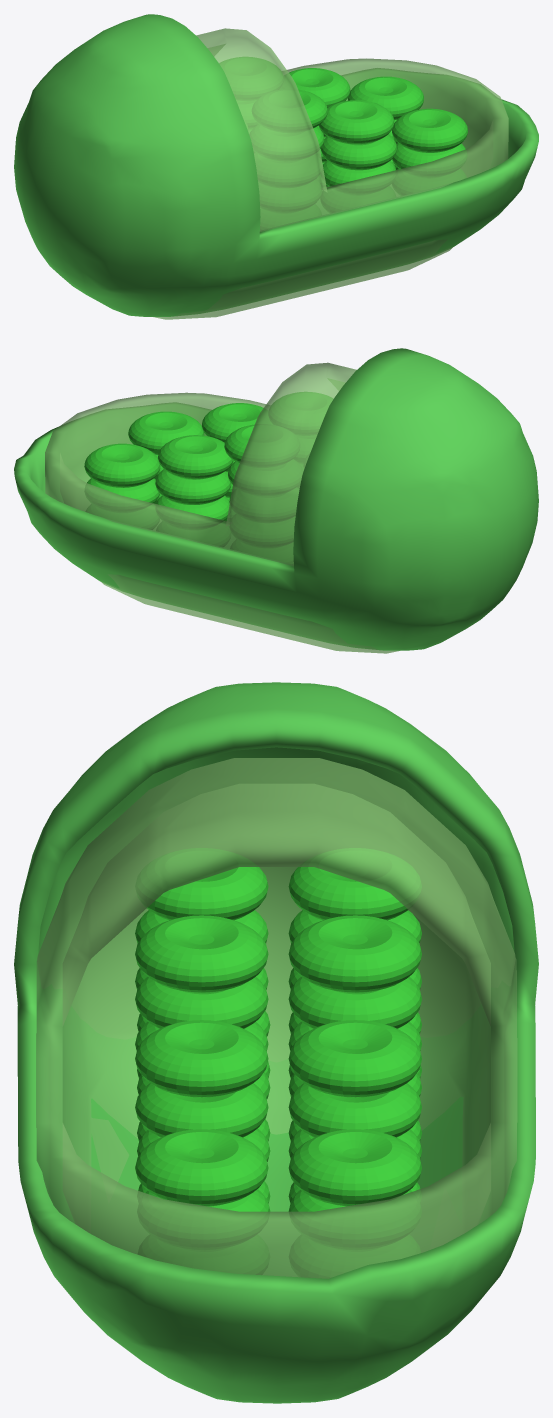
File: chloroplast.obj
The picture shows the model from 3 angles, top to bottom: view 1: azimuth 30°, elevation 25°; view 2: azimuth 150°, elevation 25°; view 3: azimuth 270°, elevation 25°; orthographic projection. The views are drawn at different scales.
Parts seen in each view (by area): view 1: Mball.001_Mesh, Mball.002_Mesh.002, Sphere.006_Sphere.008, Sphere.034_Sphere.036, Sphere.030_Sphere.032, Sphere.005_Sphere.007, Sphere.033_Sphere.035, Sphere.028_Sphere.030, Sphere.012_Sphere.014, Sphere.010_Sphere.012, Sphere.004_Sphere.006, Sphere.018_Sphere.020 (+5 smaller); view 2: Mball.001_Mesh, Mball.002_Mesh.002, Sphere.005_Sphere.007, Sphere.033_Sphere.035, Sphere.029_Sphere.031, Sphere.034_Sphere.036, Sphere.006_Sphere.008, Sphere.027_Sphere.029, Sphere.011_Sphere.013, Sphere.008_Sphere.010, Sphere.003_Sphere.004, Sphere.017_Sphere.019 (+5 smaller); view 3: Mball.001_Mesh, Mball.002_Mesh.002, Sphere.034_Sphere.036, Sphere.030_Sphere.032, Sphere.033_Sphere.035, Sphere.029_Sphere.031, Sphere.006_Sphere.008, Sphere.005_Sphere.007, Sphere.032_Sphere.034, Sphere.031_Sphere.033, Sphere.004_Sphere.006, Sphere.003_Sphere.004 (+8 smaller).
Part boxes in pixels (<box>): Mball.001_Mesh: <box>14,14,538,316</box>; Mball.002_Mesh.002: <box>153,28,508,319</box>; Sphere.006_Sphere.008: <box>392,108,467,152</box>; Sphere.034_Sphere.036: <box>252,89,327,132</box>; Sphere.030_Sphere.032: <box>318,100,394,144</box>; Sphere.005_Sphere.007: <box>348,76,423,120</box>; Sphere.033_Sphere.035: <box>219,57,283,100</box>; Sphere.028_Sphere.030: <box>249,125,324,161</box>; Sphere.012_Sphere.014: <box>321,134,396,170</box>; Sphere.010_Sphere.012: <box>321,160,396,194</box>; Sphere.004_Sphere.006: <box>392,143,467,177</box>; Sphere.018_Sphere.020: <box>254,153,322,187</box>; Mball.001_Mesh: <box>14,348,538,650</box>; Mball.002_Mesh.002: <box>45,362,399,653</box>; Sphere.005_Sphere.007: <box>84,443,160,487</box>; Sphere.033_Sphere.035: <box>224,424,299,467</box>; Sphere.029_Sphere.031: <box>158,435,233,479</box>; Sphere.034_Sphere.036: <box>268,392,332,435</box>; Sphere.006_Sphere.008: <box>128,411,204,454</box>; Sphere.027_Sphere.029: <box>228,459,302,495</box>; Sphere.011_Sphere.013: <box>155,469,231,504</box>; Sphere.008_Sphere.010: <box>155,495,230,529</box>; Sphere.003_Sphere.004: <box>84,478,159,512</box>; Sphere.017_Sphere.019: <box>229,488,298,522</box>; Mball.001_Mesh: <box>14,682,538,1403</box>; Mball.002_Mesh.002: <box>36,758,517,1278</box>; Sphere.034_Sphere.036: <box>135,915,268,992</box>; Sphere.030_Sphere.032: <box>135,1020,268,1097</box>; Sphere.033_Sphere.035: <box>288,915,421,992</box>; Sphere.029_Sphere.031: <box>288,1020,421,1097</box>; Sphere.006_Sphere.008: <box>135,1129,268,1206</box>; Sphere.005_Sphere.007: <box>288,1129,421,1206</box>; Sphere.032_Sphere.034: <box>135,848,268,920</box>; Sphere.031_Sphere.033: <box>288,848,421,920</box>; Sphere.004_Sphere.006: <box>137,1189,270,1249</box>; Sphere.003_Sphere.004: <box>288,1190,421,1249</box>.
Size of the model in its own units: 39.75 by 22.01 by 21.4.
